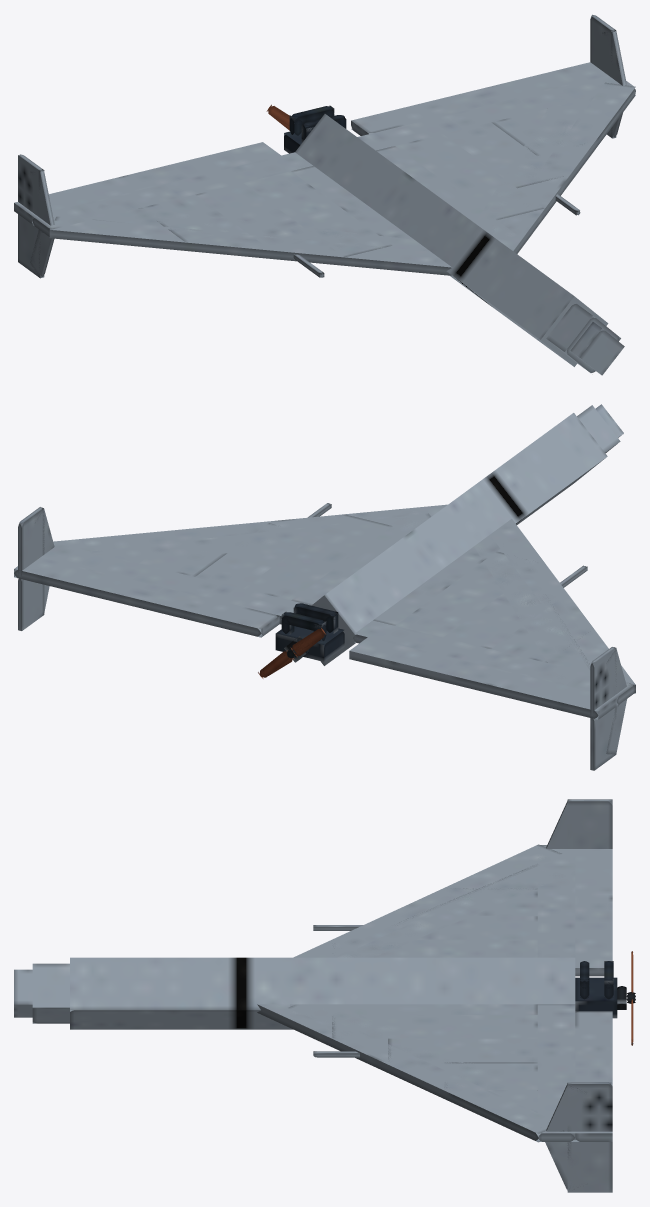
Rendered from shahed136.obj.
3 renders of one model, top to bottom at view 1: azimuth 30°, elevation 25°; view 2: azimuth 150°, elevation 25°; view 3: azimuth 270°, elevation 25°, orthographic.
Visible parts, largest first — view 1: cube, cube.008, cube.001, cube.009, cube.013, cube.006, cube.025, cube.002, cube.024, cube.003, cube.012, cube.005 (+13 smaller); view 2: cube, cube.025, cube.024, cube.006, cube.008, cube.009, cube.002, cube.013, cube.001, cube.003, cube.010, cube.012 (+15 smaller); view 3: cube, cube.001, cube.008, cube.006, cube.024, cube.010, cube.002, cube.009, cube.005, cube.013, cube.025, cube.003 (+13 smaller).
Part boxes in pixels (x1,y1,x2,y2): cube: (295, 114, 608, 366); cube.008: (49, 216, 451, 275); cube.001: (493, 82, 635, 253); cube.009: (32, 152, 312, 236); cube.013: (243, 171, 392, 257); cube.006: (395, 134, 544, 219); cube.025: (351, 62, 608, 135); cube.002: (357, 75, 634, 150); cube.024: (14, 142, 280, 223); cube.003: (475, 92, 594, 236); cube.012: (195, 183, 316, 248); cube.005: (443, 122, 563, 188); cube: (312, 413, 607, 665); cube.025: (14, 557, 279, 637); cube.024: (349, 637, 616, 719); cube.006: (243, 514, 392, 600); cube.008: (490, 519, 635, 693); cube.009: (353, 620, 635, 705); cube.002: (41, 542, 311, 624); cube.013: (395, 551, 538, 637); cube.001: (53, 504, 447, 551); cube.003: (90, 513, 430, 563); cube.010: (474, 540, 590, 679); cube.012: (443, 583, 563, 648); cube: (70, 957, 575, 1029); cube.001: (257, 1004, 550, 1142); cube.008: (293, 844, 561, 957); cube.006: (332, 1015, 537, 1038); cube.024: (575, 849, 612, 976); cube.010: (339, 864, 565, 957); cube.002: (537, 1004, 575, 1141); cube.009: (537, 845, 575, 957); cube.005: (388, 1038, 537, 1062); cube.013: (333, 939, 537, 957); cube.025: (575, 1011, 612, 1141); cube.003: (288, 1004, 537, 1112).
Bounding box in the file's own units: 4.21 × 0.7355 × 3.82.
